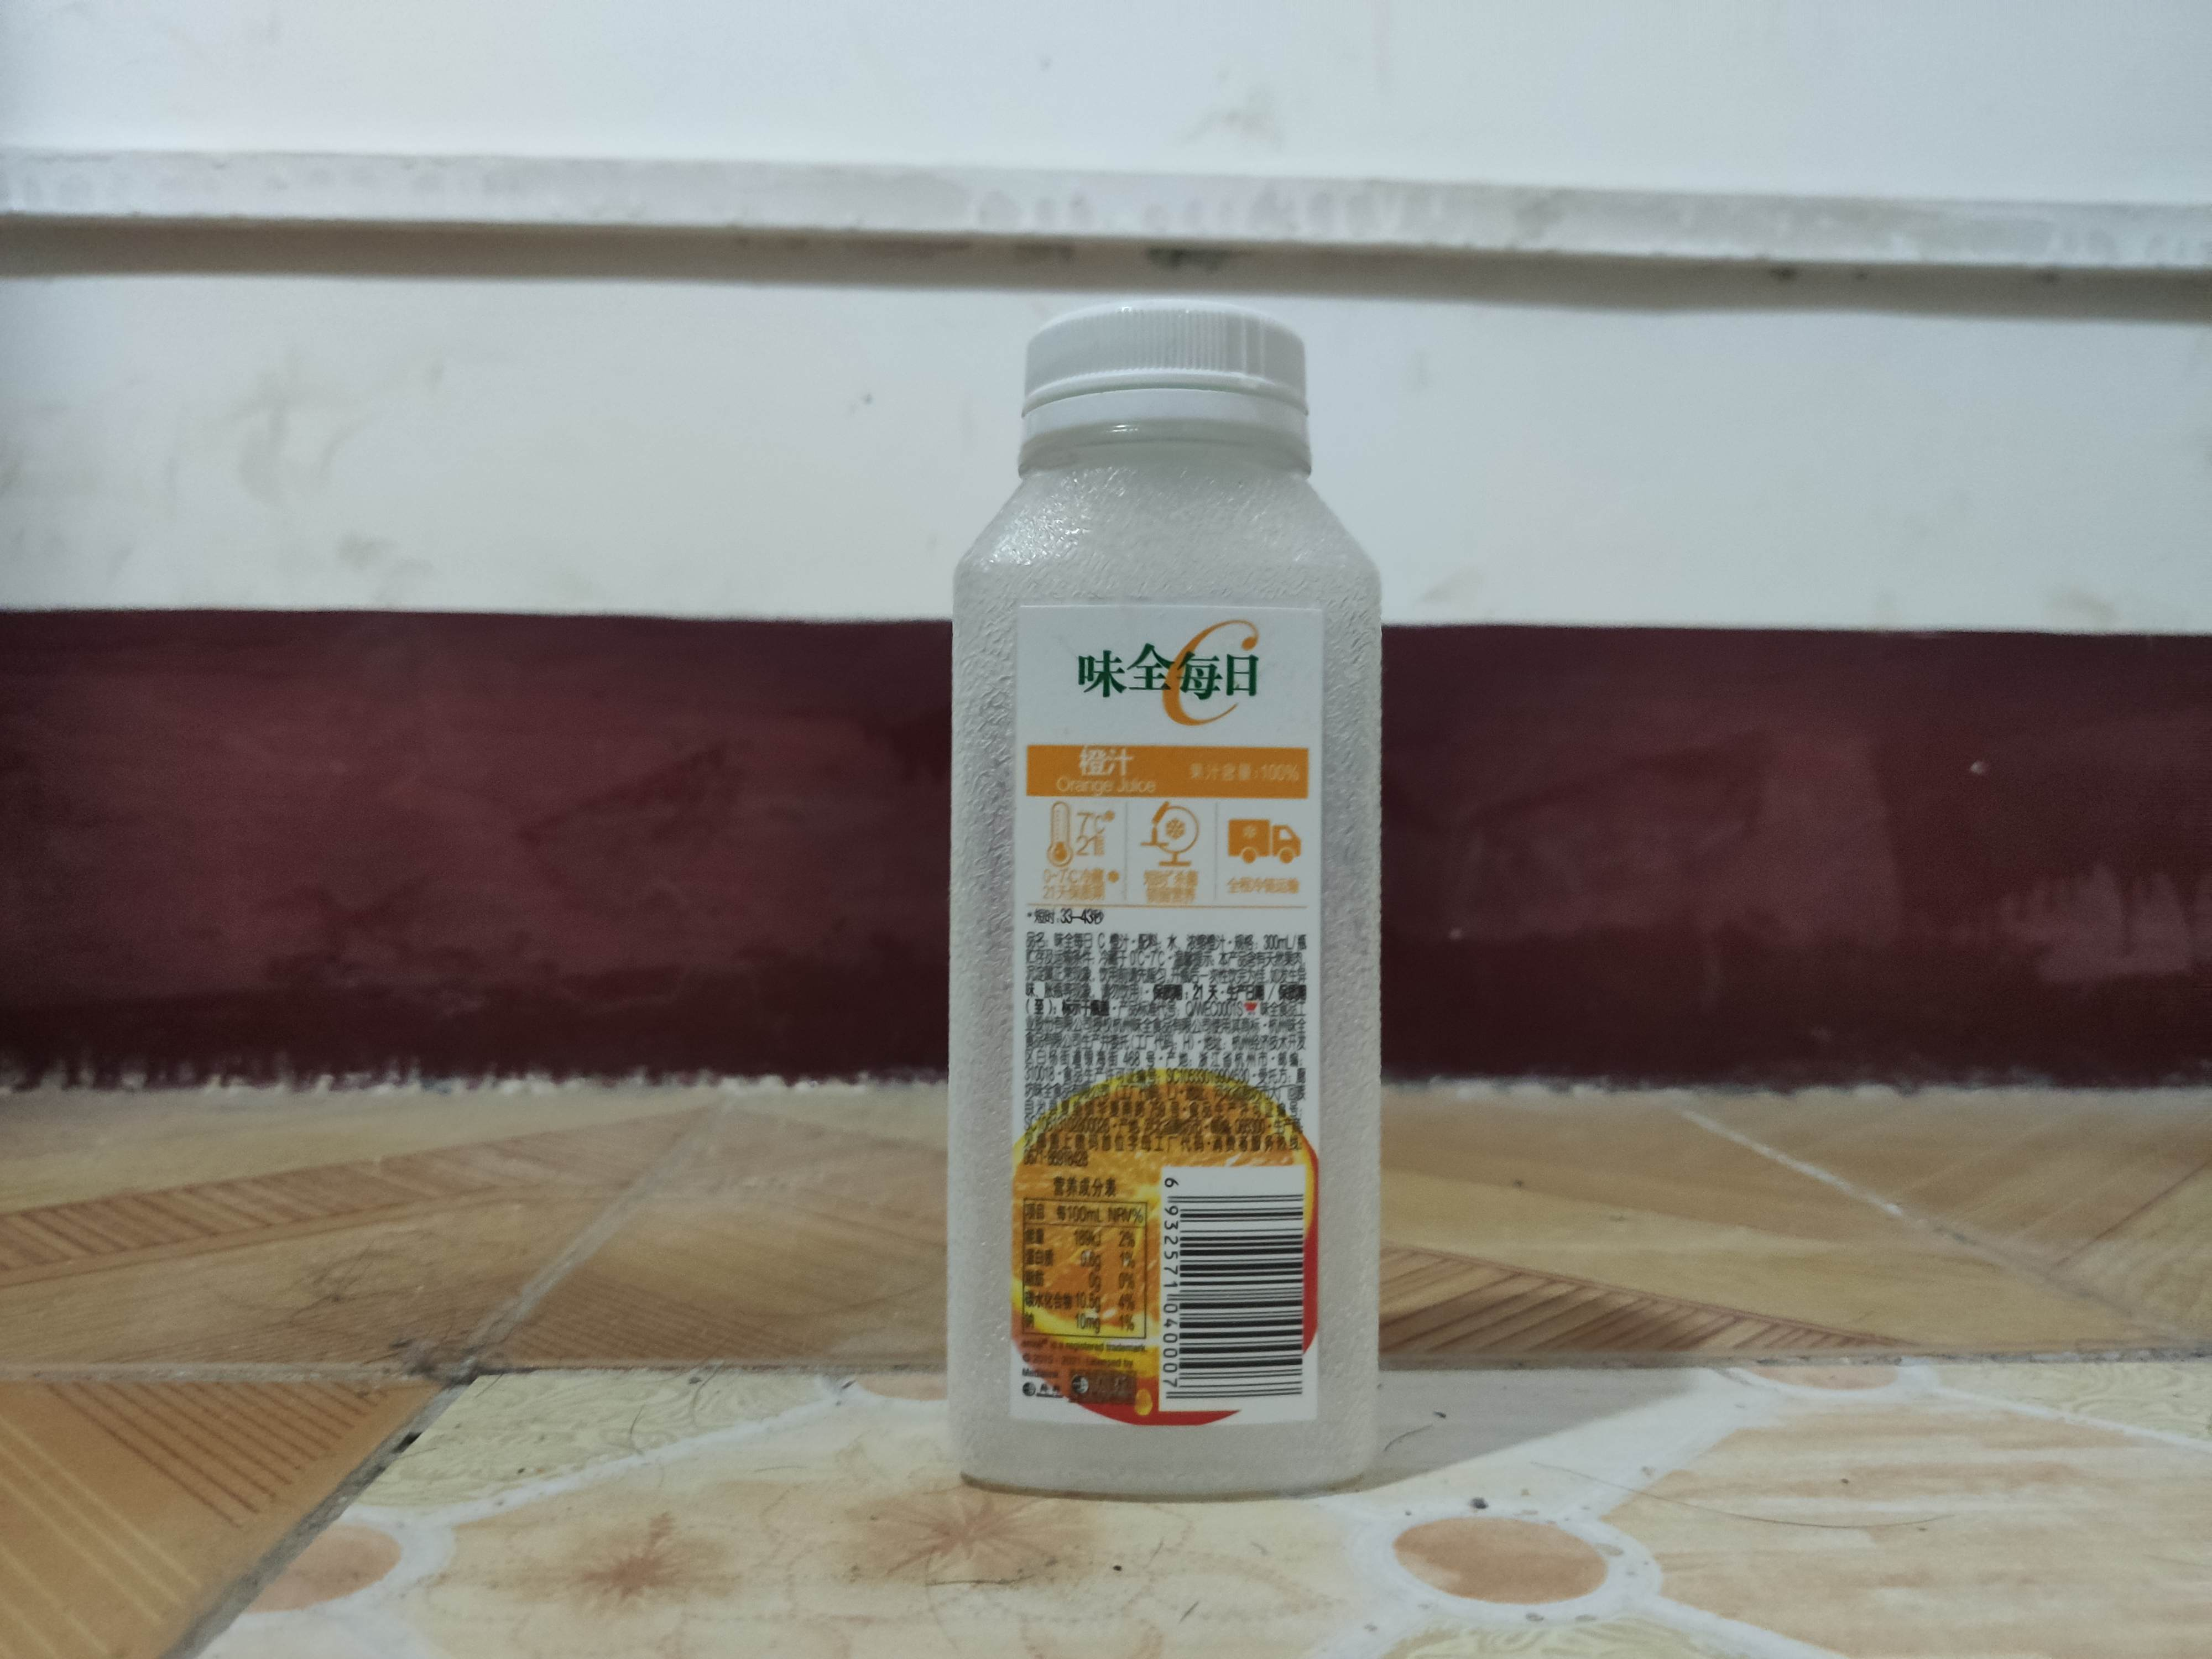Plastic Bottle: (937, 300, 1392, 1507)
